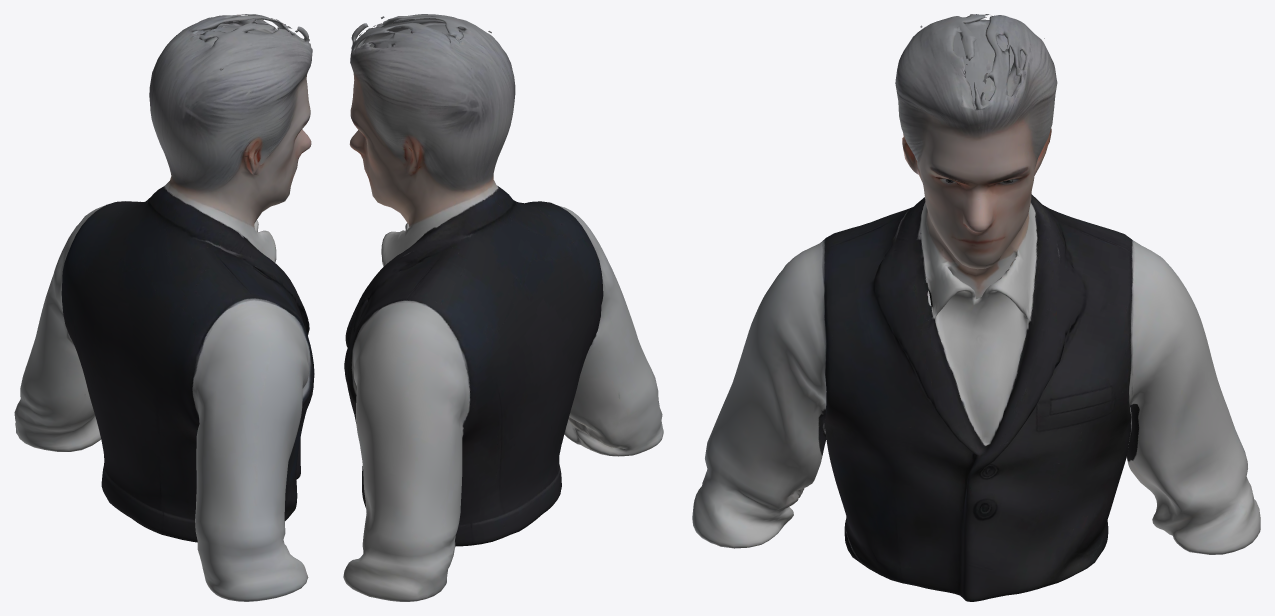
Rendered from suspect_1.glb.
3 renders of one model, left to right at view 1: azimuth 30°, elevation 25°; view 2: azimuth 150°, elevation 25°; view 3: azimuth 270°, elevation 25°, orthographic. The views are drawn at different scales.
Visible parts, largest first — view 1: tripo_node_0641b332-a504-4072-ae00-6140cefd66dd; view 2: tripo_node_0641b332-a504-4072-ae00-6140cefd66dd; view 3: tripo_node_0641b332-a504-4072-ae00-6140cefd66dd.
Boxes of the visible parts, x1=… form: tripo_node_0641b332-a504-4072-ae00-6140cefd66dd: x1=14, y1=14, x2=314, y2=601; tripo_node_0641b332-a504-4072-ae00-6140cefd66dd: x1=343, y1=14, x2=663, y2=601; tripo_node_0641b332-a504-4072-ae00-6140cefd66dd: x1=692, y1=14, x2=1260, y2=601.
Size of the model in its own units: 0.4479 by 0.9922 by 0.94.
1 material, 1 textured.
